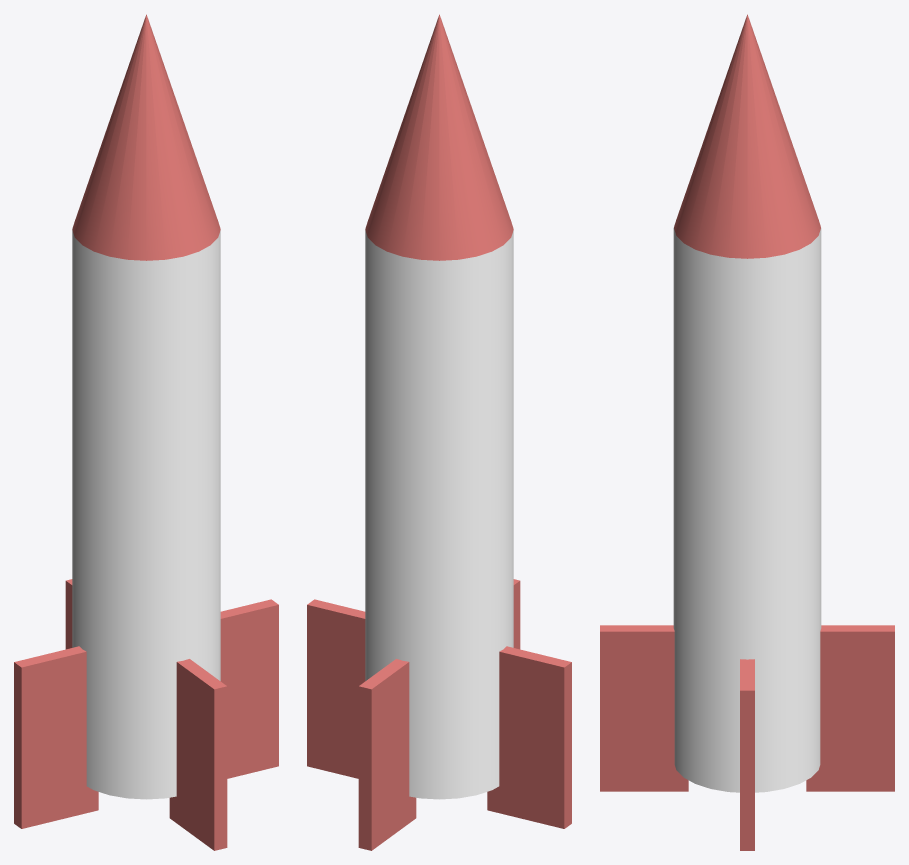
Rendered from rocket.glb.
3 renders of one model, left to right at view 1: azimuth 30°, elevation 25°; view 2: azimuth 150°, elevation 25°; view 3: azimuth 270°, elevation 25°, orthographic.
Size of the model in its own units: 0.5172 by 1.5 by 0.5172.
